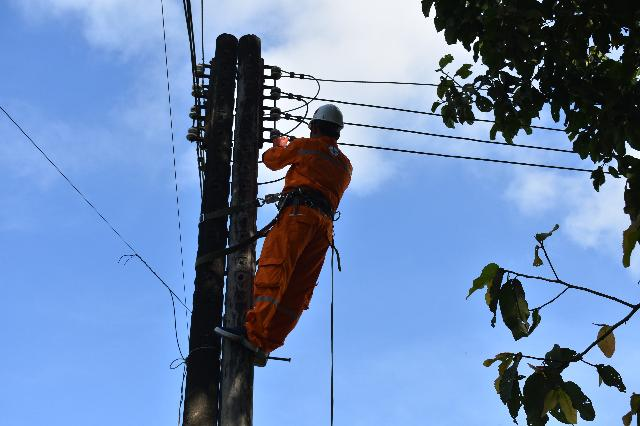gloves: (266, 128, 294, 152)
harness: (273, 178, 339, 225)
helmet: (303, 91, 350, 142)
shoes: (214, 326, 261, 354), (252, 346, 271, 370)
